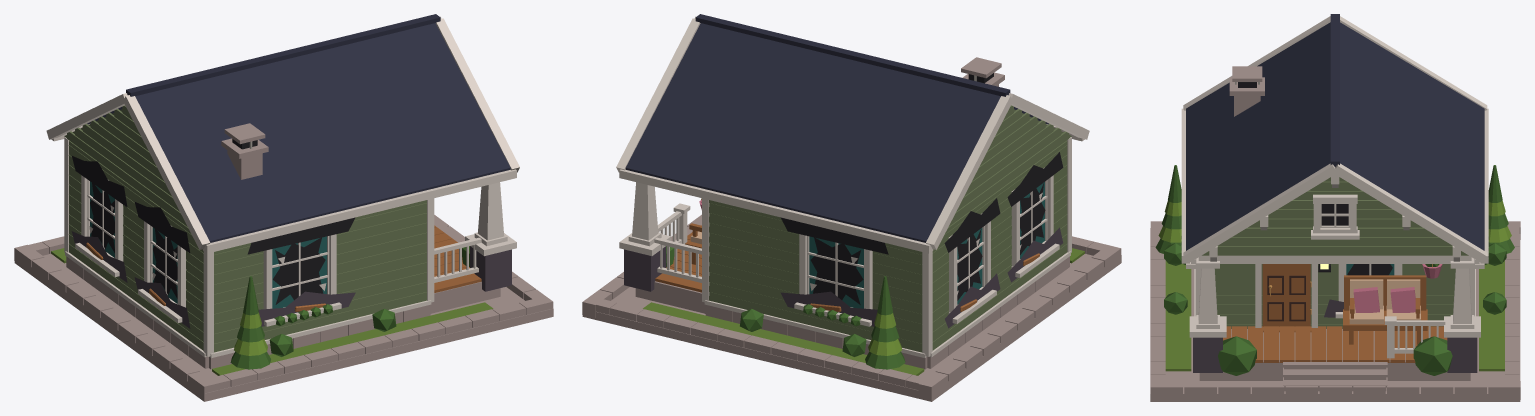
The model's file is bld.house-e.w3.glb.
3 views of the same model, side by side, from view 1: azimuth 30°, elevation 25°; view 2: azimuth 150°, elevation 25°; view 3: azimuth 270°, elevation 25° (orthographic). The views are drawn at different scales.
Visible parts, largest first — view 1: roof, body, object 6; view 2: roof, body, object 6; view 3: roof, object 6, body, door_front.
Part boxes in pixels (x1=…): roof: x1=46, y1=14, x2=519, y2=253; body: x1=64, y1=105, x2=516, y2=369; object 6: x1=14, y1=156, x2=553, y2=401; roof: x1=616, y1=14, x2=1089, y2=253; body: x1=619, y1=105, x2=1071, y2=369; object 6: x1=582, y1=152, x2=1121, y2=401; roof: x1=1181, y1=14, x2=1488, y2=263; object 6: x1=1150, y1=165, x2=1520, y2=401; body: x1=1189, y1=255, x2=1480, y2=391; door_front: x1=1262, y1=264, x2=1311, y2=326.
Size of the model in its own units: 8.5 by 5.51 by 8.01.
